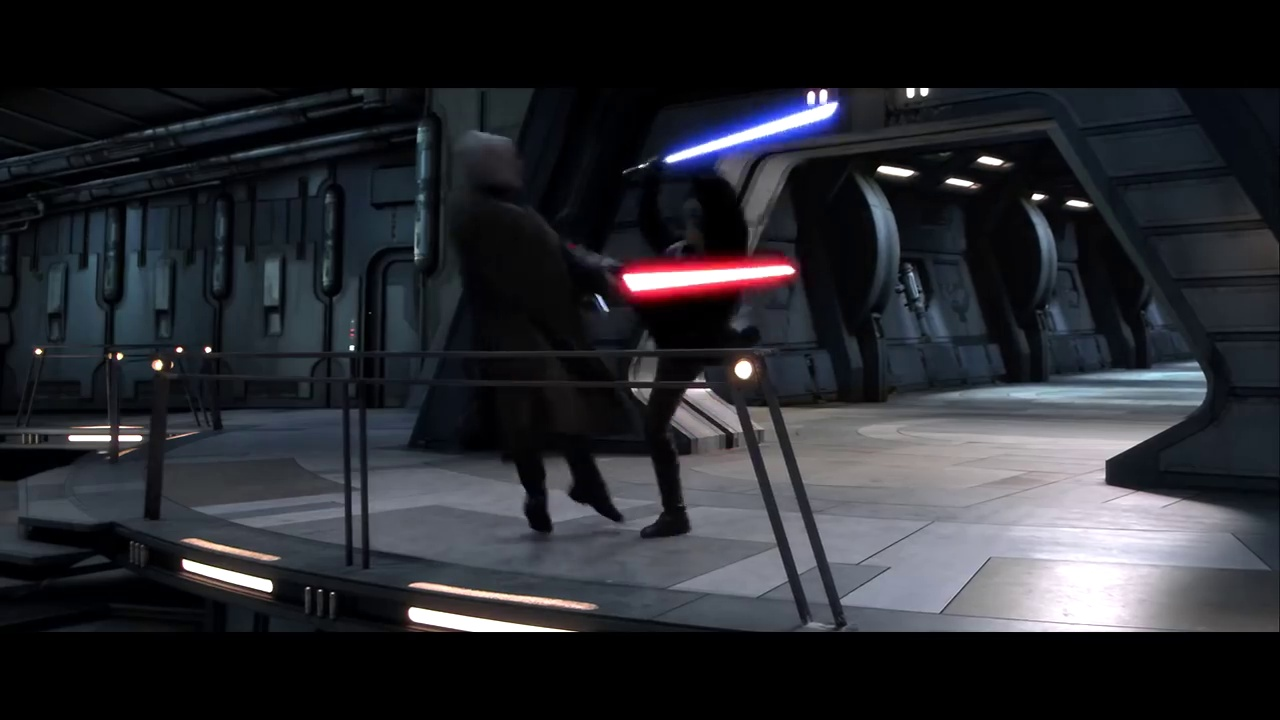lightsaber: (613, 98, 848, 182), (588, 243, 827, 308)
